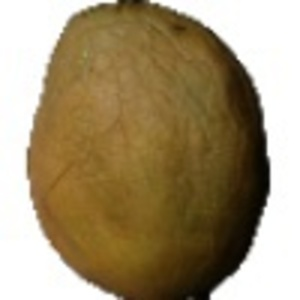mamão: (18, 3, 277, 295)
